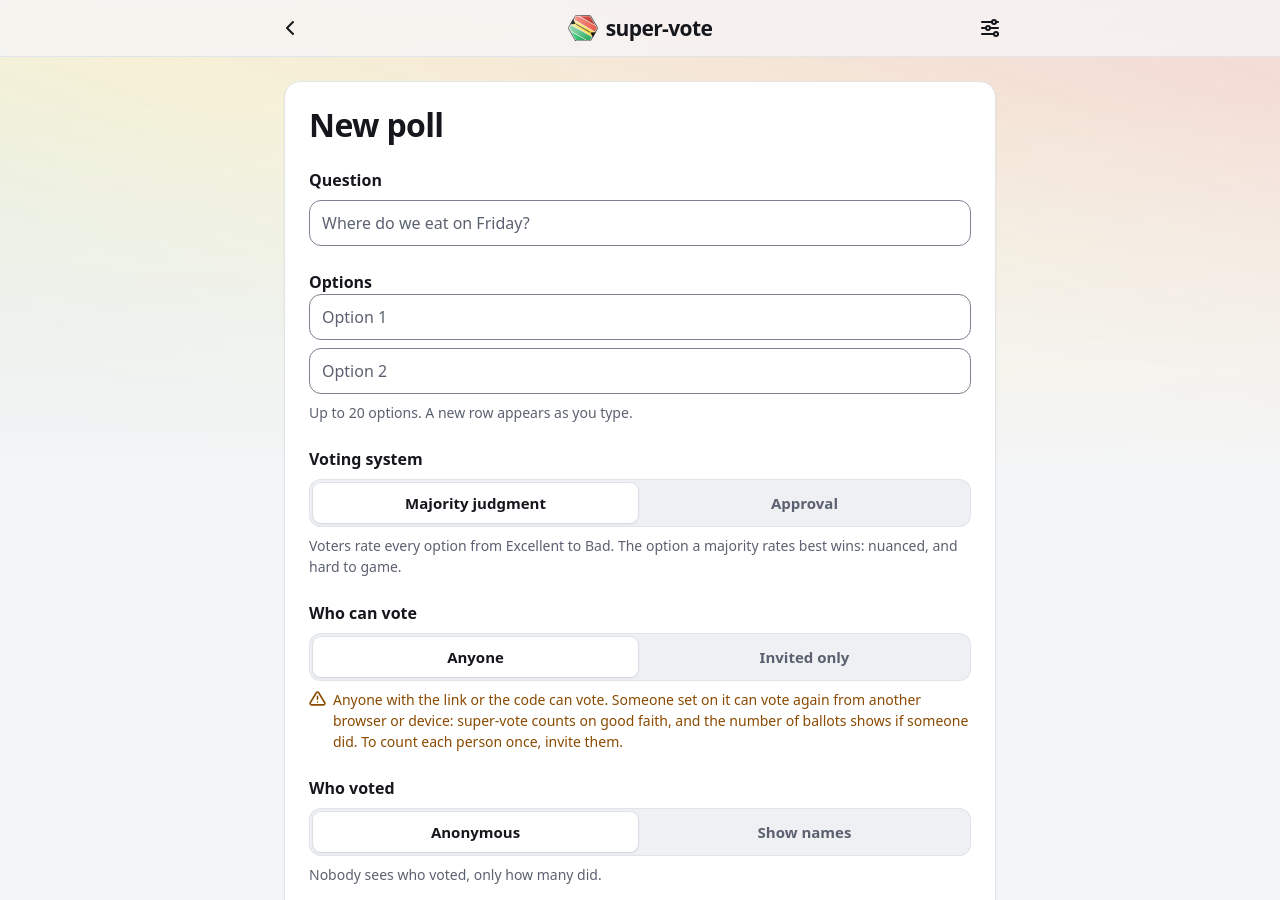
Test case: the app › leads back home from anywhere else
Check: the heading "New poll" is shown, box [309,103,444,146]
Click the link named "Home": (290, 28) [278,16,302,40]
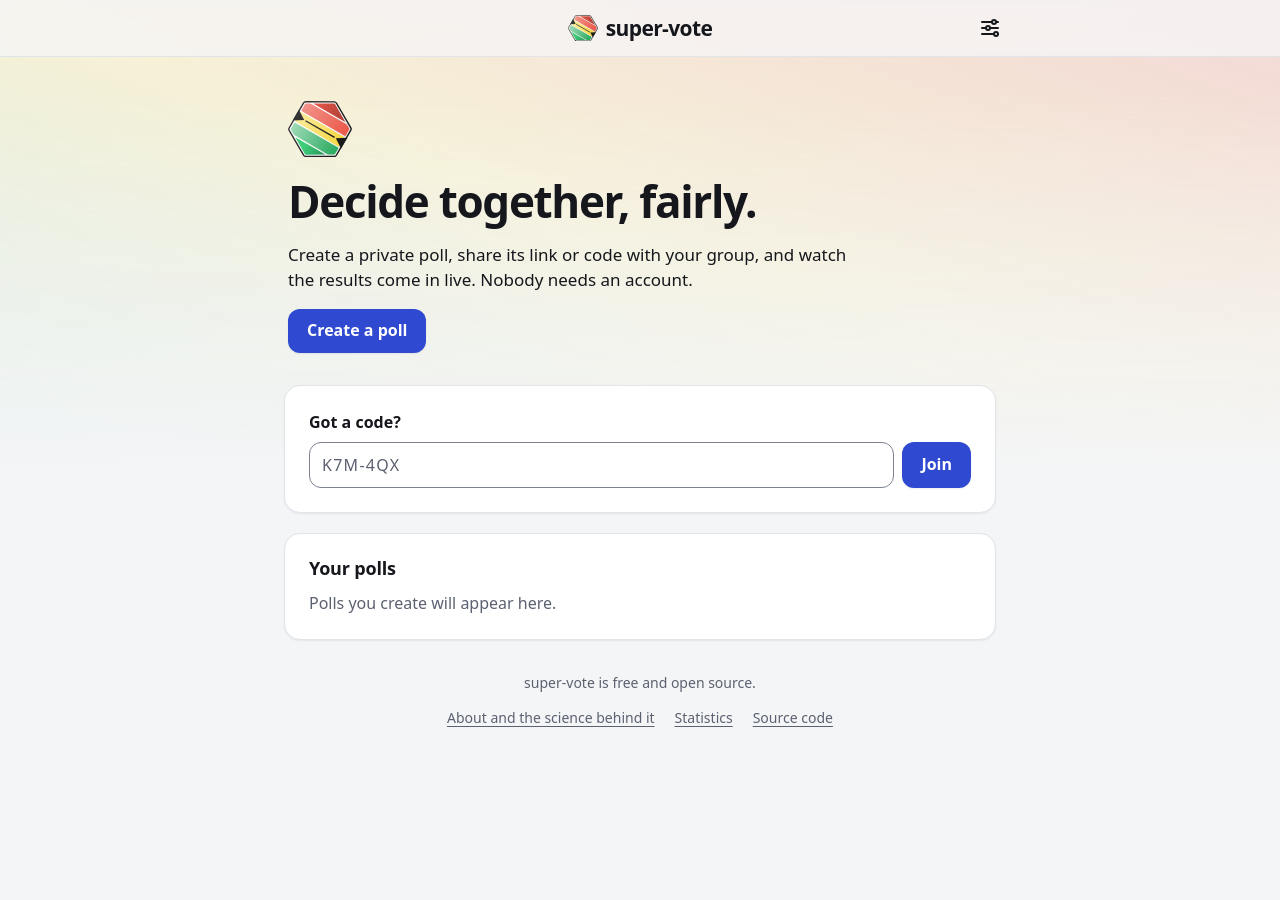
Check: the heading "Decide together, fairly." is shown, box [288,177,756,226]
